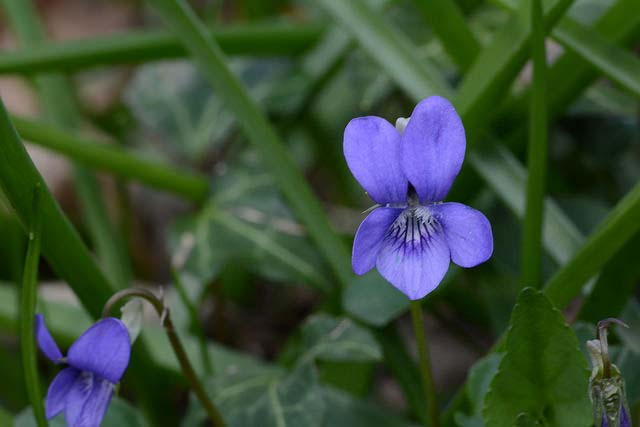violet: (328, 95, 501, 310), (27, 309, 144, 419)
